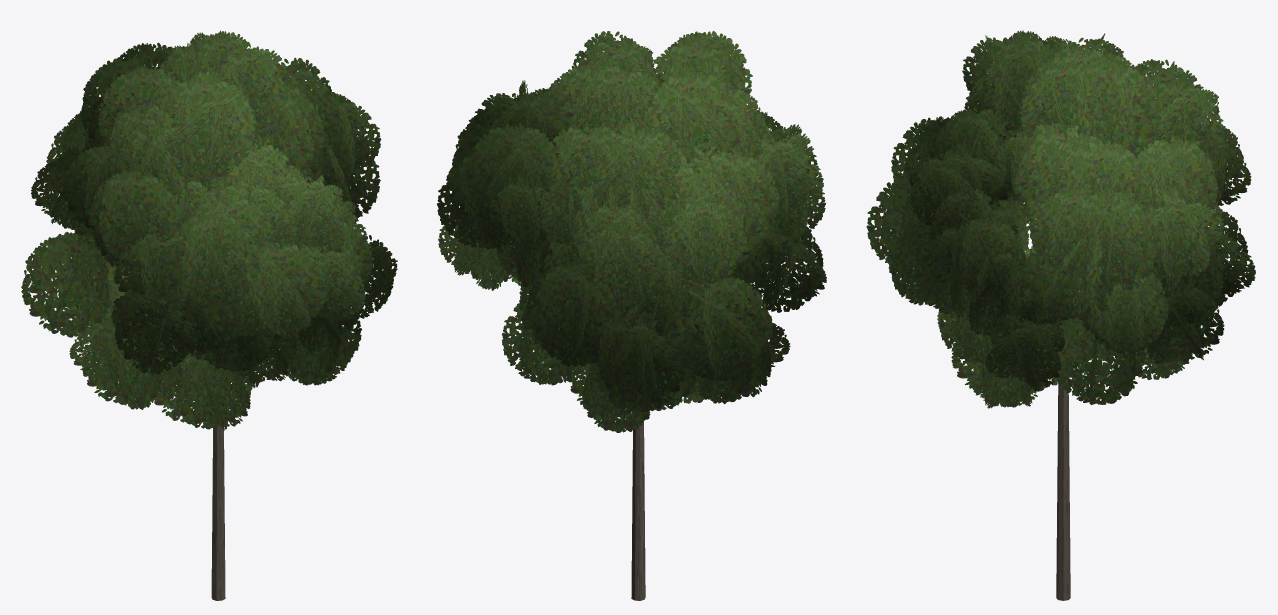
The model's file is tree_linden_lifted.glb.
3 renders of one model, left to right at view 1: azimuth 30°, elevation 25°; view 2: azimuth 150°, elevation 25°; view 3: azimuth 270°, elevation 25°, orthographic.
Visible parts, largest first — view 1: tree_linden_lifted_crown, tree_linden_lifted_trunk-col; view 2: tree_linden_lifted_crown, tree_linden_lifted_trunk-col; view 3: tree_linden_lifted_crown, tree_linden_lifted_trunk-col.
Part boxes in pixels (x1,y1,x2,y2): tree_linden_lifted_crown: (21, 30, 397, 430); tree_linden_lifted_trunk-col: (211, 413, 225, 600); tree_linden_lifted_crown: (437, 31, 826, 432); tree_linden_lifted_trunk-col: (631, 411, 645, 600); tree_linden_lifted_crown: (866, 30, 1255, 408); tree_linden_lifted_trunk-col: (1056, 372, 1070, 600).
Size of the model in its own units: 8.68 by 13.99 by 9.15.
Materials: 2 (2 with a texture image).
